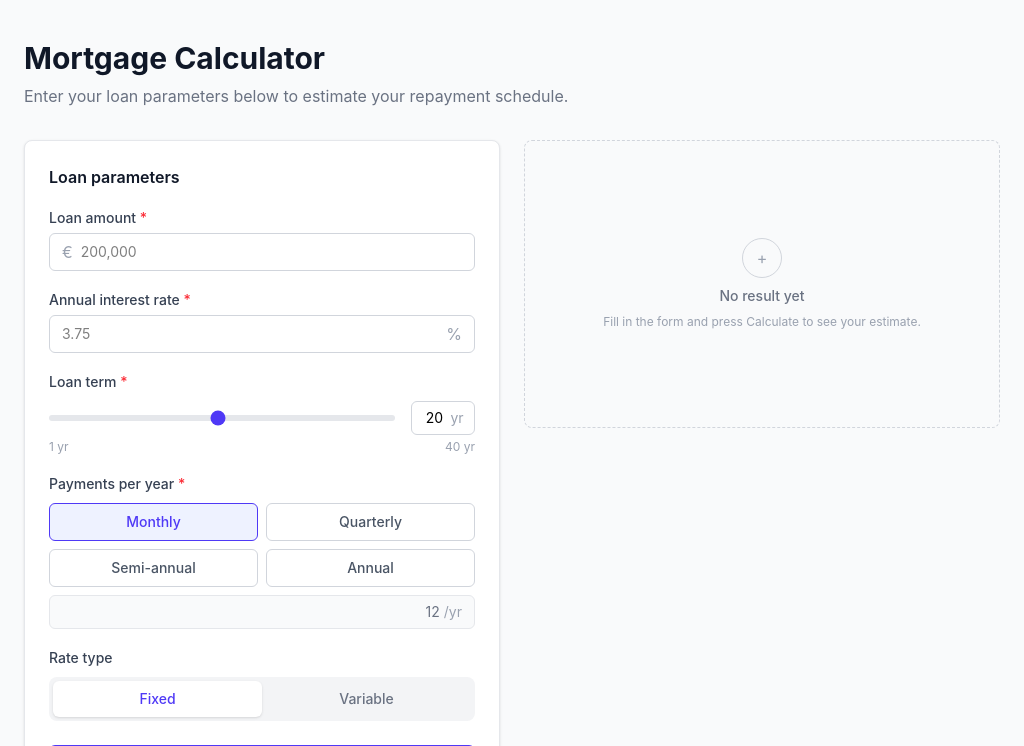
CalculatorPage result › shows the estimated installment after a valid calculation
This screenshot has width=1024, height=746.
Type "100000" into the number field labelled "Loan amount *". click: (267, 252)
box: x1=73 y1=234 x2=462 y2=270
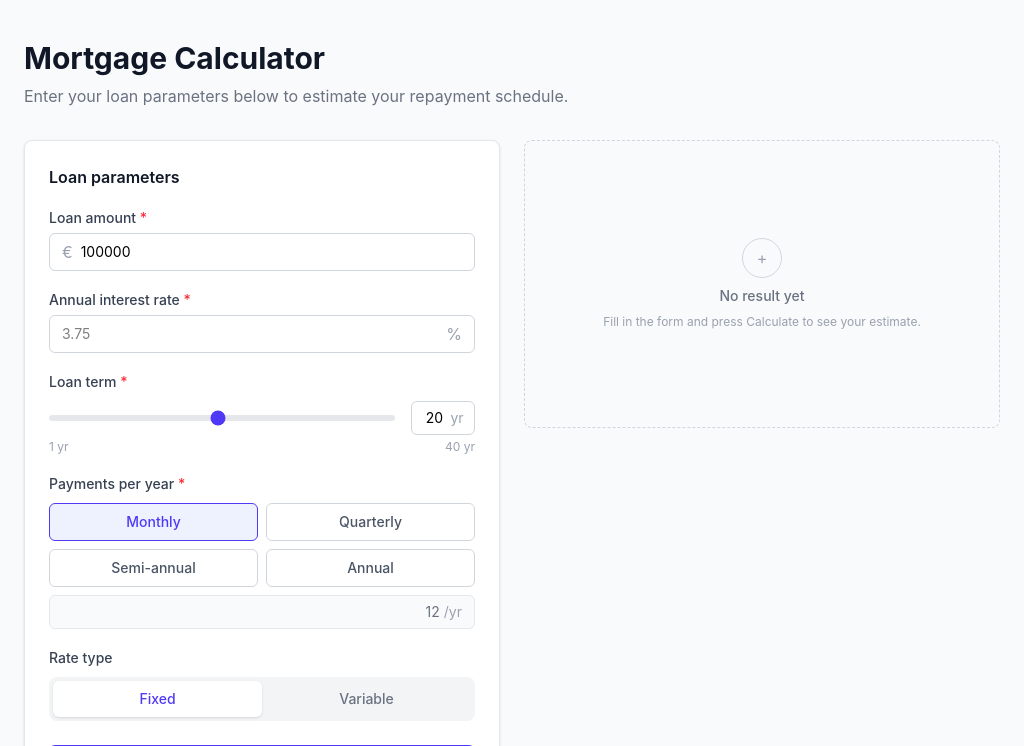
Type "3.5" into the number field labelled "Annual interest rate *". click: (254, 334)
box: x1=62 y1=316 x2=446 y2=352
(page scrolled)
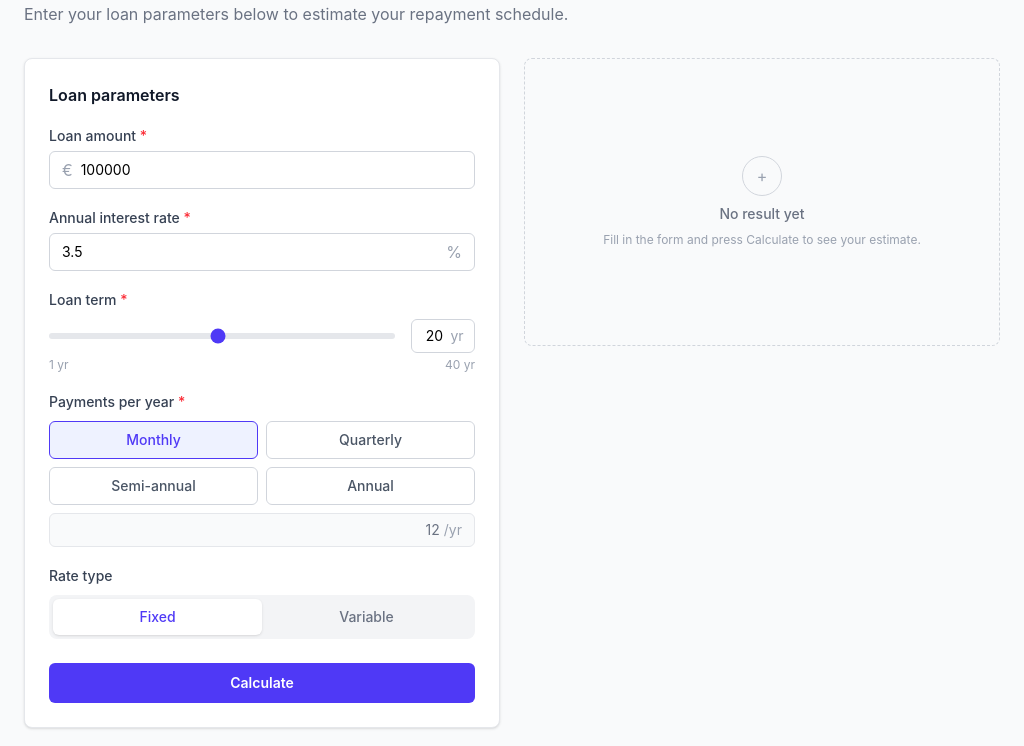
Click the button "Calculate". click: (262, 683)
box: x1=49 y1=663 x2=475 y2=703
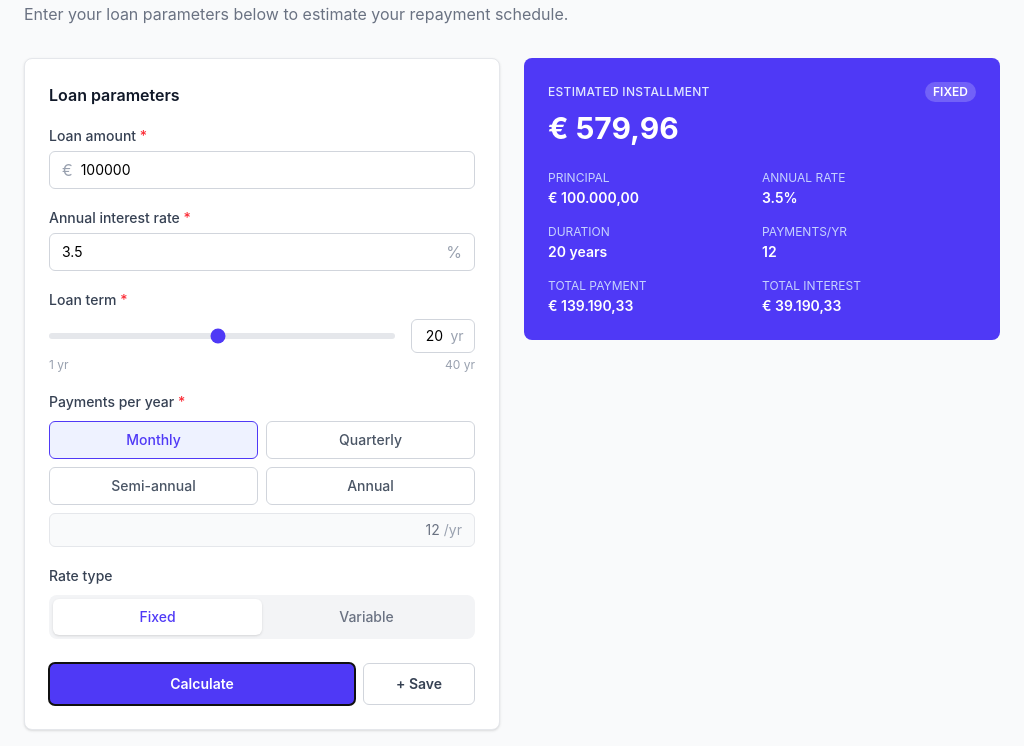
Result: the text "€ 579,96" is shown at x1=548 y1=110 x2=679 y2=146
